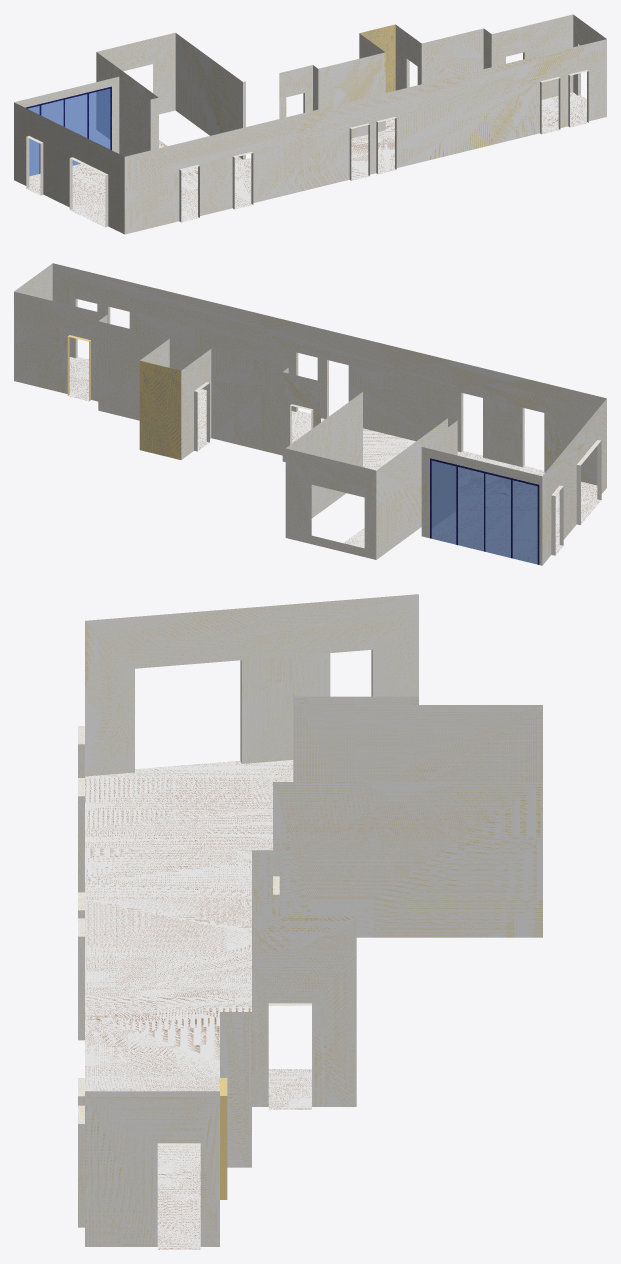
The model's file is COM017.obj.
3 renders of one model, top to bottom at view 1: azimuth 30°, elevation 25°; view 2: azimuth 150°, elevation 25°; view 3: azimuth 270°, elevation 25°, orthographic. The views are drawn at different scales.
Visible parts, largest first — view 1: Mesh1 Group1 Model; view 2: Mesh1 Group1 Model; view 3: Mesh1 Group1 Model.
Boxes of the visible parts, x1,y1,x2,y2 form: Mesh1 Group1 Model: (14,14,606,234); Mesh1 Group1 Model: (14,263,606,565); Mesh1 Group1 Model: (78,594,542,1249).
Size of the model in its own units: 20.76 by 3.02 by 8.16.
6 materials, 1 textured.
